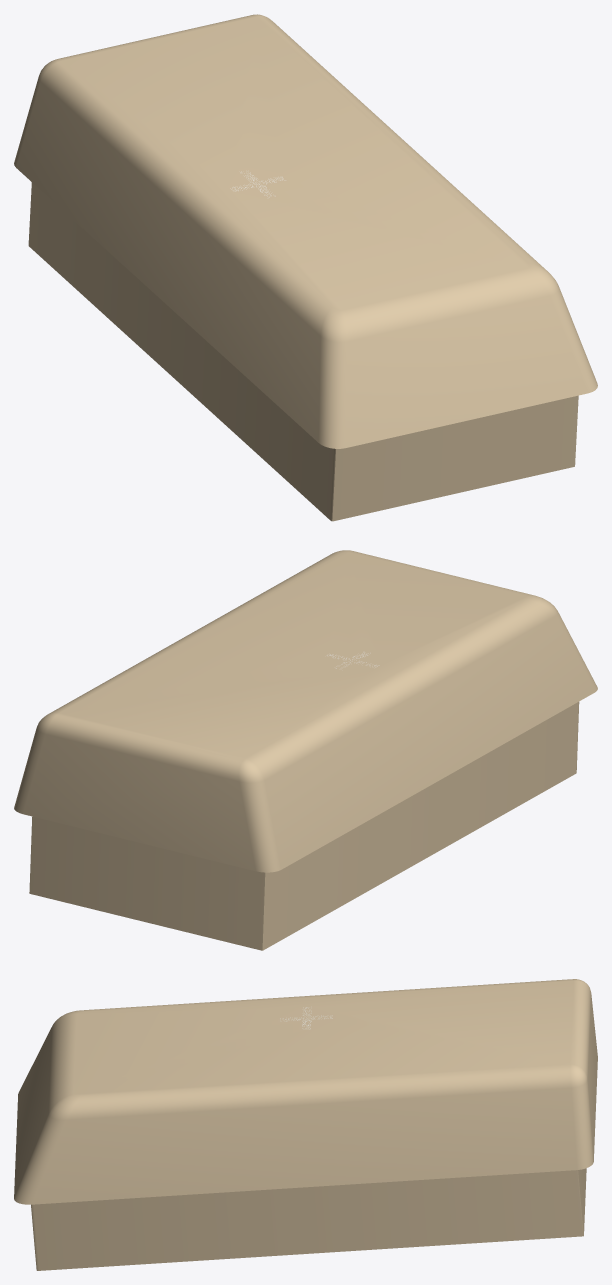
Rendered from original-21.obj.
The picture shows the model from 3 angles, top to bottom: view 1: azimuth 30°, elevation 25°; view 2: azimuth 150°, elevation 25°; view 3: azimuth 270°, elevation 25°; orthographic projection. The views are drawn at different scales.
Parts seen in each view (by area): view 1: Group19/mesh68/mesh68-geometry#mesh68-geometry; view 2: Group19/mesh68/mesh68-geometry#mesh68-geometry; view 3: Group19/mesh68/mesh68-geometry#mesh68-geometry.
Part boxes in pixels (x1=…): Group19/mesh68/mesh68-geometry#mesh68-geometry: x1=14, y1=14, x2=597, y2=521; Group19/mesh68/mesh68-geometry#mesh68-geometry: x1=14, y1=550, x2=597, y2=950; Group19/mesh68/mesh68-geometry#mesh68-geometry: x1=14, y1=979, x2=597, y2=1270.
Size of the model in its own units: 0.0386 by 0.0301 by 0.0787.
